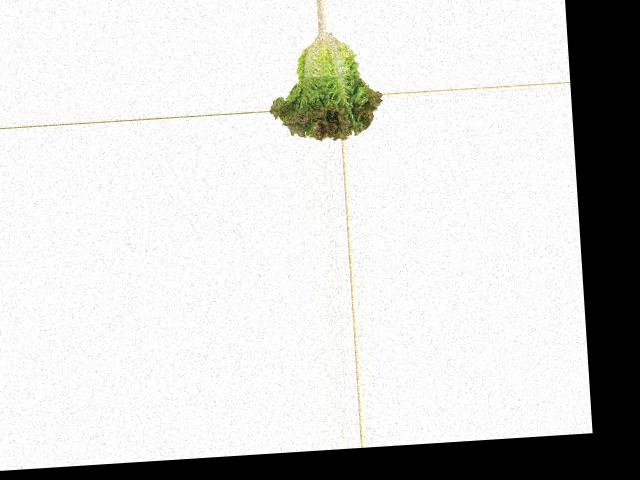lettuce: (265, 28, 383, 143)
